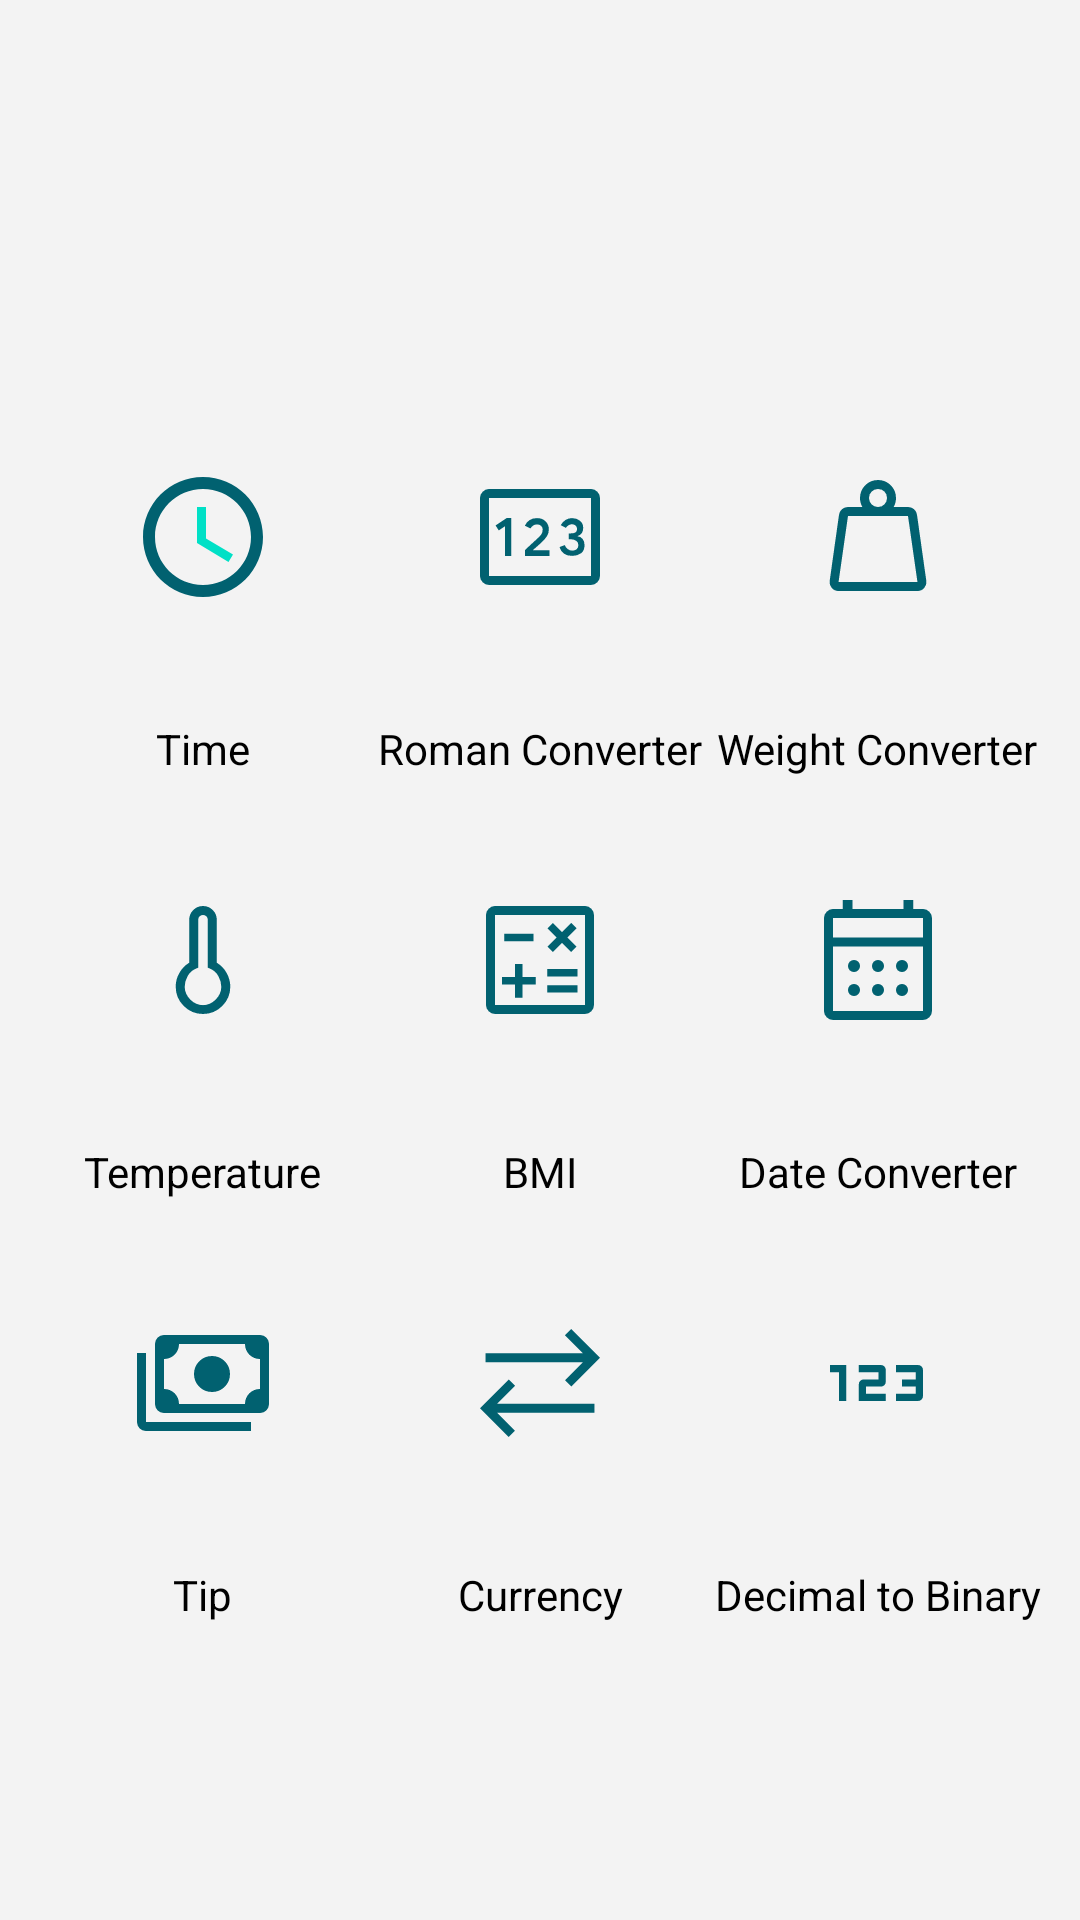

Icon click points for this 1080x1920 phone screenshot, format [x,y]:
calculate: [540,960]
calendar month: [878,960]
pay: [203,1383]
thermometer: [203,960]
